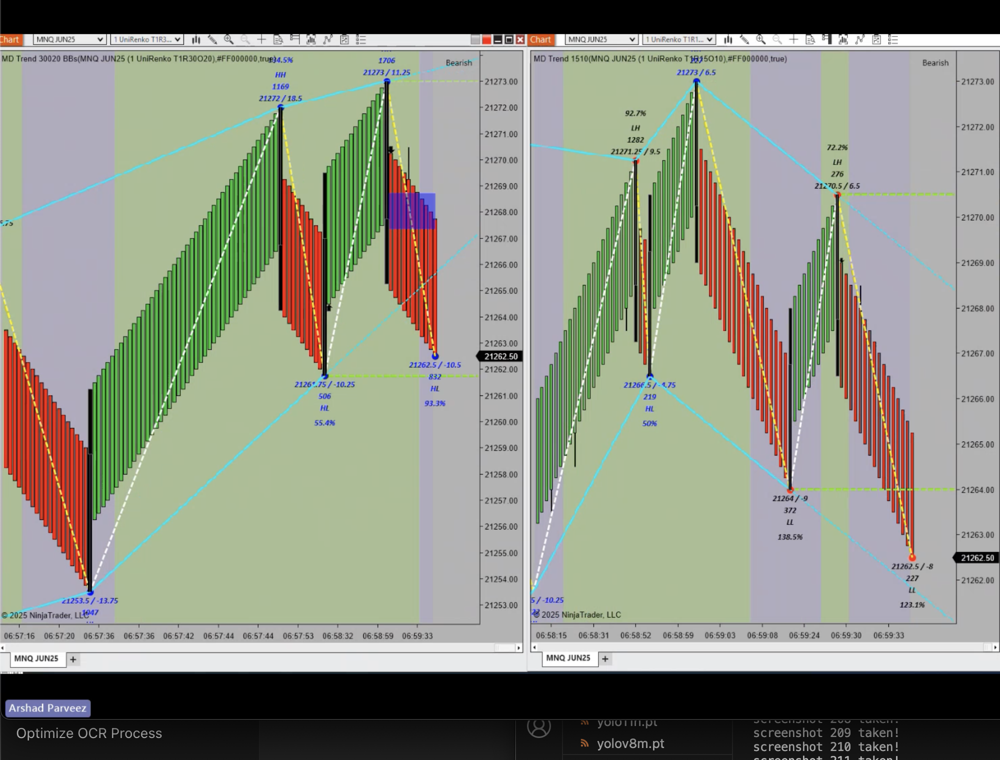HH: (270, 66, 297, 85)
HL: (316, 398, 341, 420), (426, 382, 450, 400), (637, 403, 662, 420)
LH: (829, 153, 854, 173), (626, 118, 647, 138)
LL: (779, 512, 808, 538), (900, 577, 923, 599)
